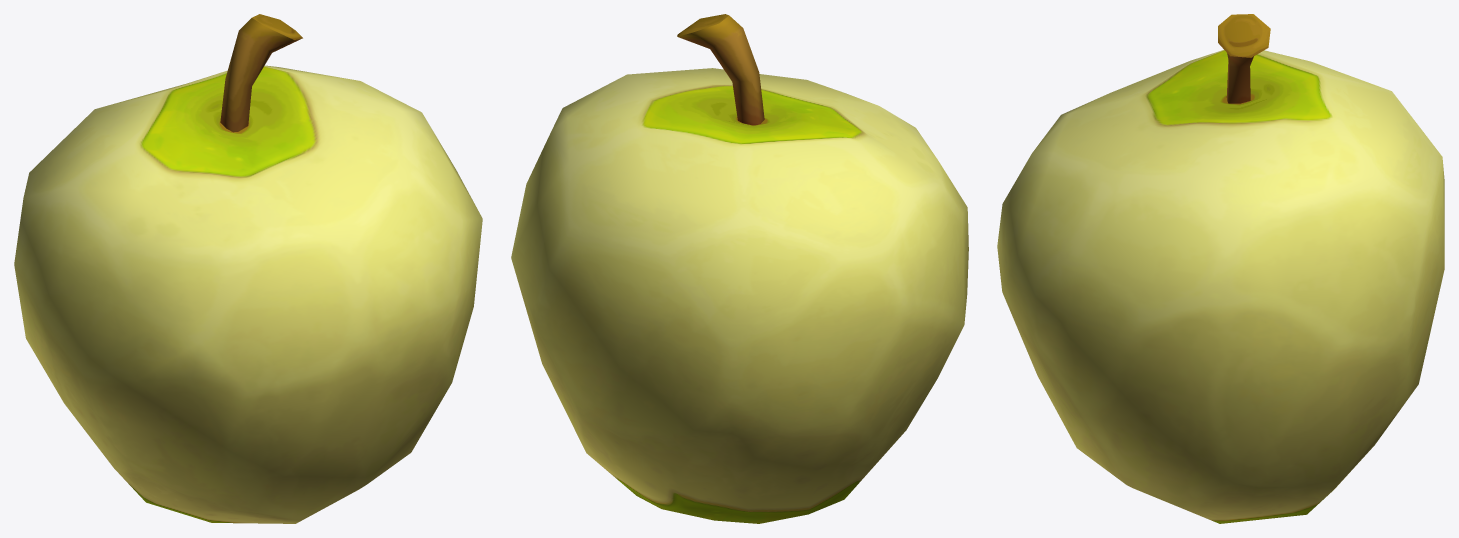
The model's file is SM_AppleGreenPeeled.fbx.
3 views of the same model, side by side, from view 1: azimuth 30°, elevation 25°; view 2: azimuth 150°, elevation 25°; view 3: azimuth 270°, elevation 25° (orthographic). The views are drawn at different scales.
Parts seen in each view (by area): view 1: SM_AppleGreenPeeled; view 2: SM_AppleGreenPeeled; view 3: SM_AppleGreenPeeled.
Boxes of the visible parts, x1,y1,x2,y2 form: SM_AppleGreenPeeled: (14,14,482,523); SM_AppleGreenPeeled: (511,14,968,523); SM_AppleGreenPeeled: (997,14,1444,523).
Size of the model in its own units: 12.75 by 14.09 by 11.9.
